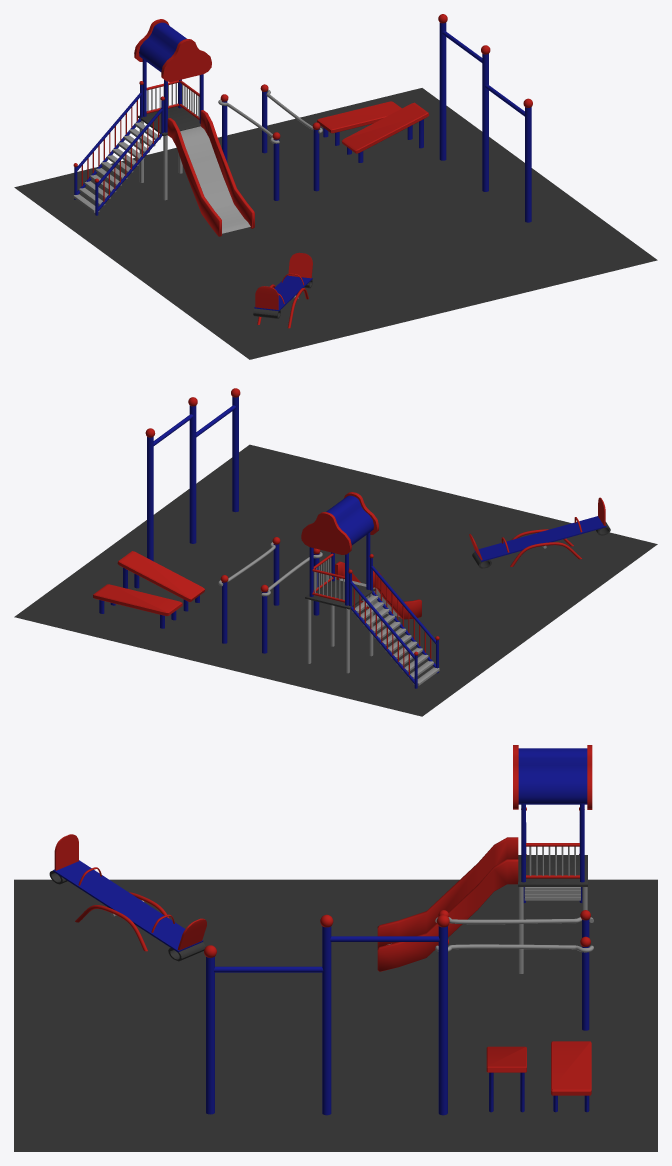
Rendered from Площадка.fbx.
The picture shows the model from 3 angles, top to bottom: view 1: azimuth 30°, elevation 25°; view 2: azimuth 150°, elevation 25°; view 3: azimuth 270°, elevation 25°; orthographic projection. The views are drawn at different scales.
Visible parts, largest first — view 1: Земля, Сфера.005, Турник, Брузья, Лавка, Лавка 2, Куб.002, Куб.004, Куб.003; view 2: Земля, Сфера.005, Турник, Брузья, Лавка, Куб.002, Лавка 2; view 3: Земля, Сфера.005, Турник, Куб.002, Брузья, Лавка 2, Лавка, Куб.003, Качели.
Boxes of the visible parts, left/top/right/bottom form: Земля: left=14, top=88, right=657, bottom=359; Сфера.005: left=73, top=19, right=254, bottom=236; Турник: left=438, top=14, right=532, bottom=222; Брузья: left=218, top=84, right=322, bottom=200; Лавка: left=341, top=102, right=429, bottom=153; Лавка 2: left=317, top=101, right=401, bottom=133; Куб.002: left=254, top=275, right=312, bottom=311; Куб.004: left=288, top=252, right=312, bottom=278; Куб.003: left=255, top=286, right=278, bottom=309; Земля: left=14, top=444, right=657, bottom=716; Сфера.005: left=301, top=492, right=439, bottom=688; Турник: left=145, top=388, right=240, bottom=561; Брузья: left=218, top=537, right=322, bottom=653; Лавка: left=117, top=551, right=204, bottom=601; Куб.002: left=474, top=516, right=606, bottom=561; Лавка 2: left=93, top=584, right=182, bottom=615; Земля: left=14, top=879, right=657, bottom=1151; Сфера.005: left=377, top=745, right=592, bottom=973; Турник: left=204, top=914, right=449, bottom=1115; Куб.002: left=53, top=860, right=203, bottom=952; Брузья: left=435, top=910, right=593, bottom=1030; Лавка 2: left=551, top=1041, right=591, bottom=1095; Лавка: left=486, top=1046, right=526, bottom=1072; Куб.003: left=54, top=834, right=78, bottom=870; Качели: left=75, top=892, right=169, bottom=951.
Bounding box in the file's own units: 2000 × 751 × 2000.
